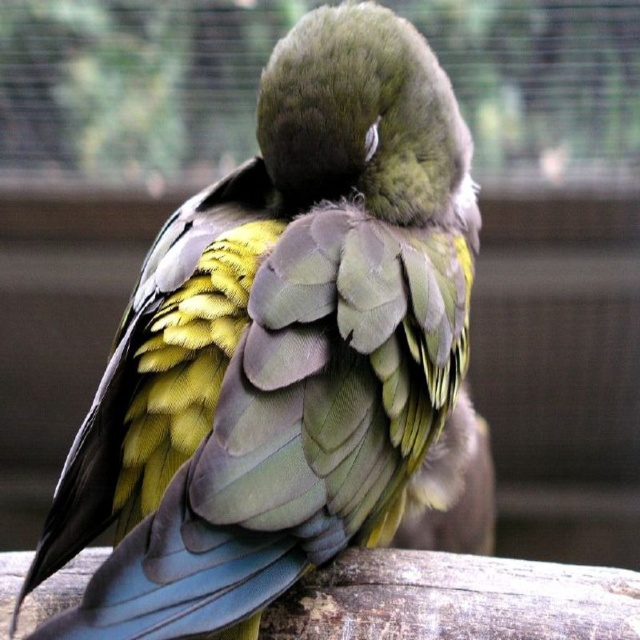Parrot: (10, 0, 481, 639)
